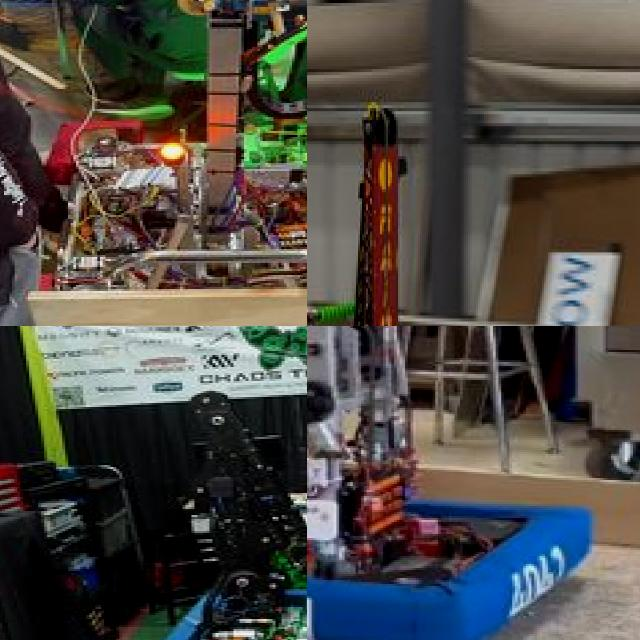FRC-Robots: (307, 326, 614, 640), (20, 0, 307, 326), (307, 101, 521, 326), (113, 396, 307, 640)
